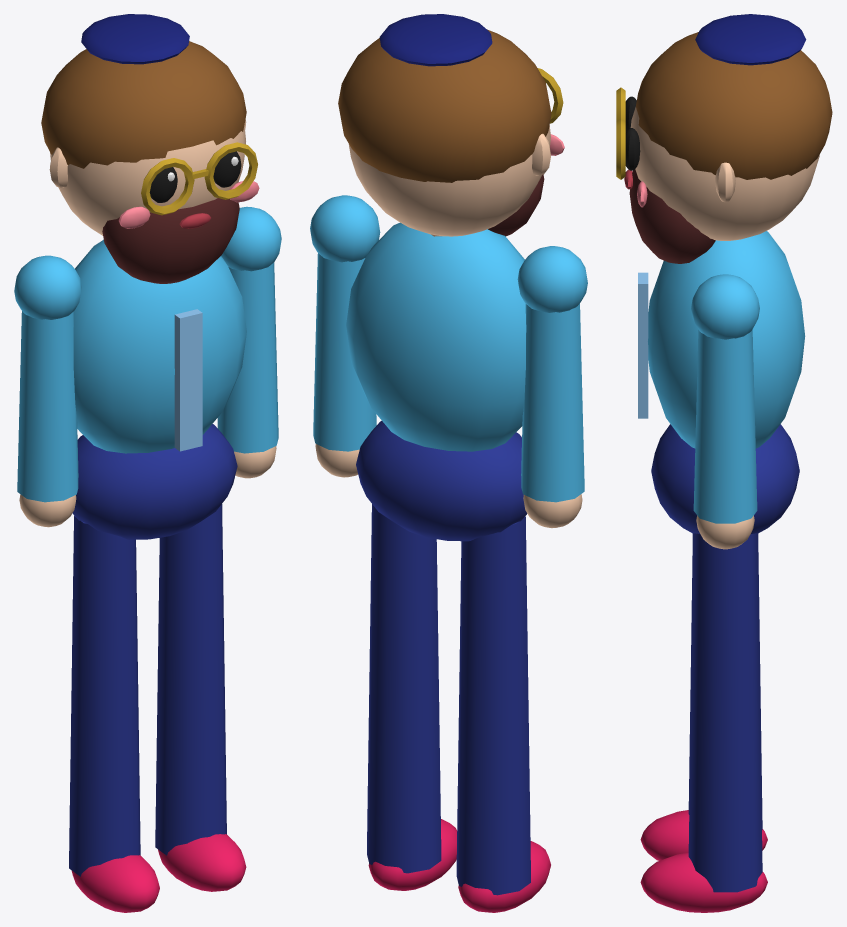
The model's file is hillel_person.glb.
3 views of the same model, side by side, from view 1: azimuth 30°, elevation 25°; view 2: azimuth 150°, elevation 25°; view 3: azimuth 270°, elevation 25° (orthographic). The views are drawn at different scales.
Parts seen in each view (by area): view 1: Body.009, Leg_R.009, Leg_L.009, Arm_R.009, Arm_L.009; view 2: Body.009, Leg_R.009, Leg_L.009, Arm_R.009, Arm_L.009; view 3: Body.009, Leg_L.009, Arm_L.009, Leg_R.009.
Part boxes in pixels (x1=…): Body.009: x1=41, y1=14, x2=259, y2=539; Leg_R.009: x1=69, y1=515, x2=159, y2=912; Leg_L.009: x1=155, y1=504, x2=246, y2=891; Arm_R.009: x1=14, y1=255, x2=81, y2=527; Arm_L.009: x1=217, y1=206, x2=281, y2=478; Body.009: x1=338, y1=14, x2=564, y2=541; Leg_R.009: x1=456, y1=516, x2=550, y2=912; Leg_L.009: x1=367, y1=504, x2=457, y2=890; Arm_R.009: x1=517, y1=246, x2=587, y2=528; Arm_L.009: x1=310, y1=195, x2=380, y2=477; Body.009: x1=616, y1=14, x2=832, y2=533; Leg_L.009: x1=640, y1=533, x2=767, y2=912; Arm_L.009: x1=691, y1=274, x2=759, y2=549; Leg_R.009: x1=640, y1=534, x2=767, y2=860.
Bounding box in the file's own units: 0.57 × 1.78 × 0.4067.
